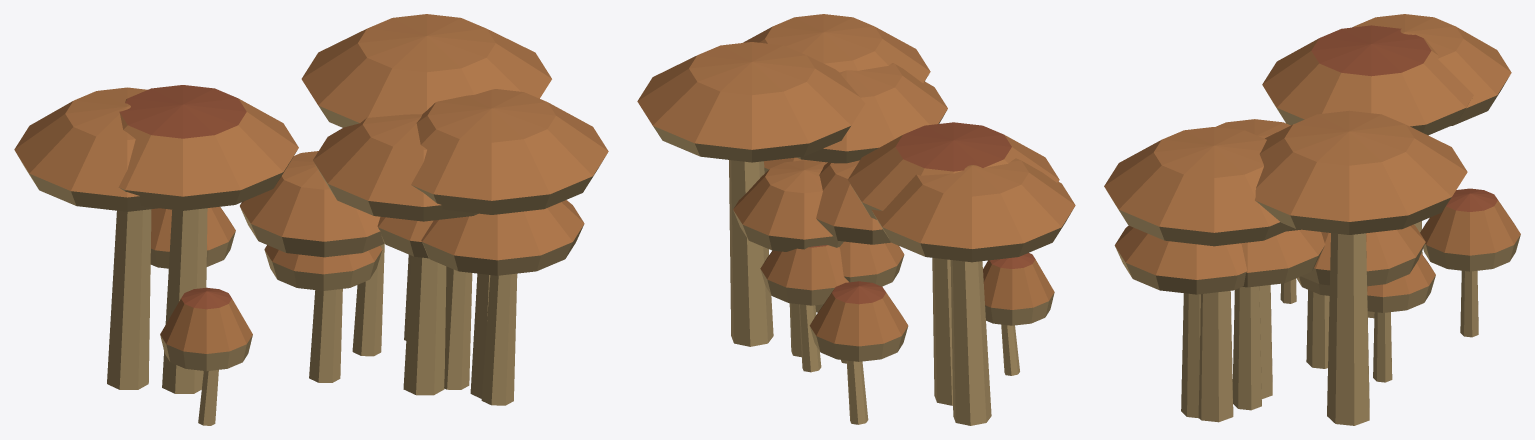
3 renders of one model, left to right at view 1: azimuth 30°, elevation 25°; view 2: azimuth 150°, elevation 25°; view 3: azimuth 270°, elevation 25°, orthographic. The views are drawn at different scales.
Visible parts, largest first — view 1: ochre-mushroom-colony · evaluated preview mesh; view 2: ochre-mushroom-colony · evaluated preview mesh; view 3: ochre-mushroom-colony · evaluated preview mesh.
Boxes of the visible parts, bbox=[...] form: ochre-mushroom-colony · evaluated preview mesh: bbox=[14, 14, 608, 425]; ochre-mushroom-colony · evaluated preview mesh: bbox=[637, 14, 1075, 425]; ochre-mushroom-colony · evaluated preview mesh: bbox=[1104, 14, 1520, 425].
Size of the model in its own units: 2.08 by 1.26 by 1.67.
